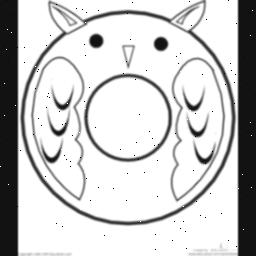o: (82, 69, 176, 165)
